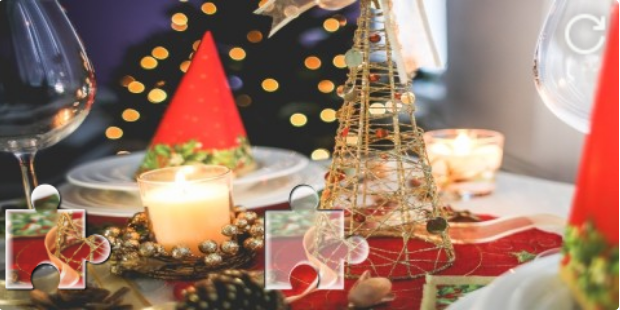target: (264, 184, 369, 290)
